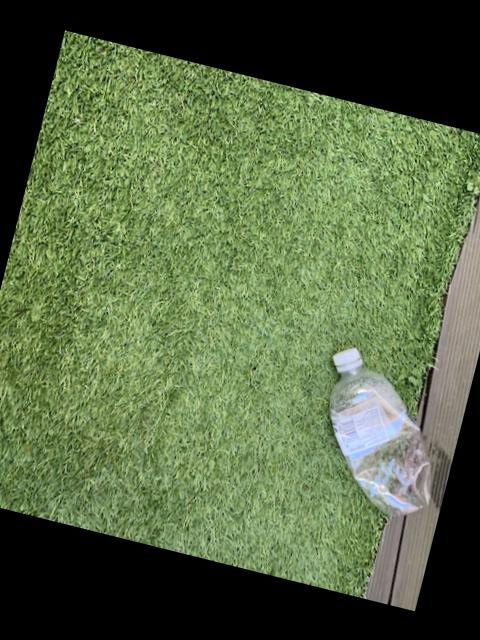plastic: (331, 349, 432, 516)
